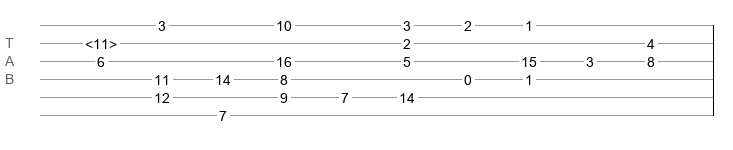0: (464, 72, 472, 82)
1: (525, 18, 533, 28), (525, 72, 533, 82)
10: (276, 18, 292, 28)
11: (154, 72, 170, 82)
12: (154, 90, 170, 100)
14: (215, 72, 231, 82), (399, 90, 415, 100)
15: (521, 54, 537, 64)
16: (276, 54, 292, 64)
2: (403, 36, 411, 46), (464, 18, 472, 28)
3: (158, 18, 166, 28), (403, 18, 411, 28), (586, 54, 594, 64)
4: (647, 36, 655, 46)
5: (403, 54, 411, 64)
6: (97, 54, 105, 64)
7: (219, 108, 227, 118), (341, 90, 349, 100)
8: (280, 72, 288, 82), (647, 54, 655, 64)
9: (280, 90, 288, 100)
harmonic: (85, 36, 117, 46)
